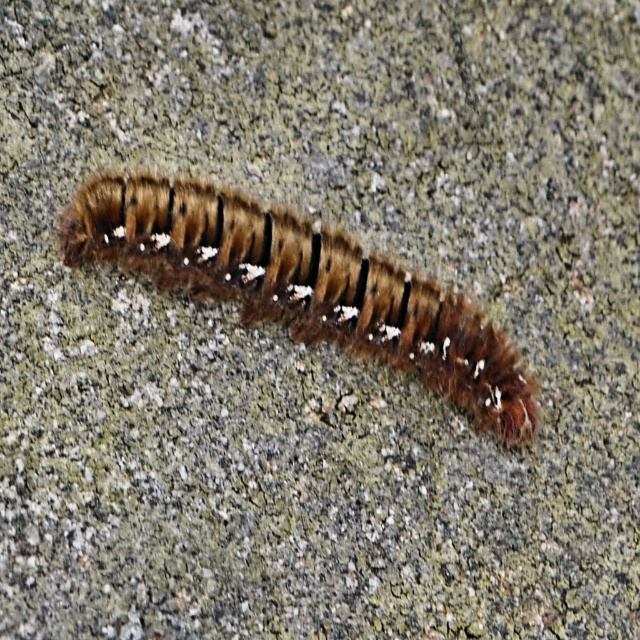Caterpillar: (56, 159, 541, 455)
